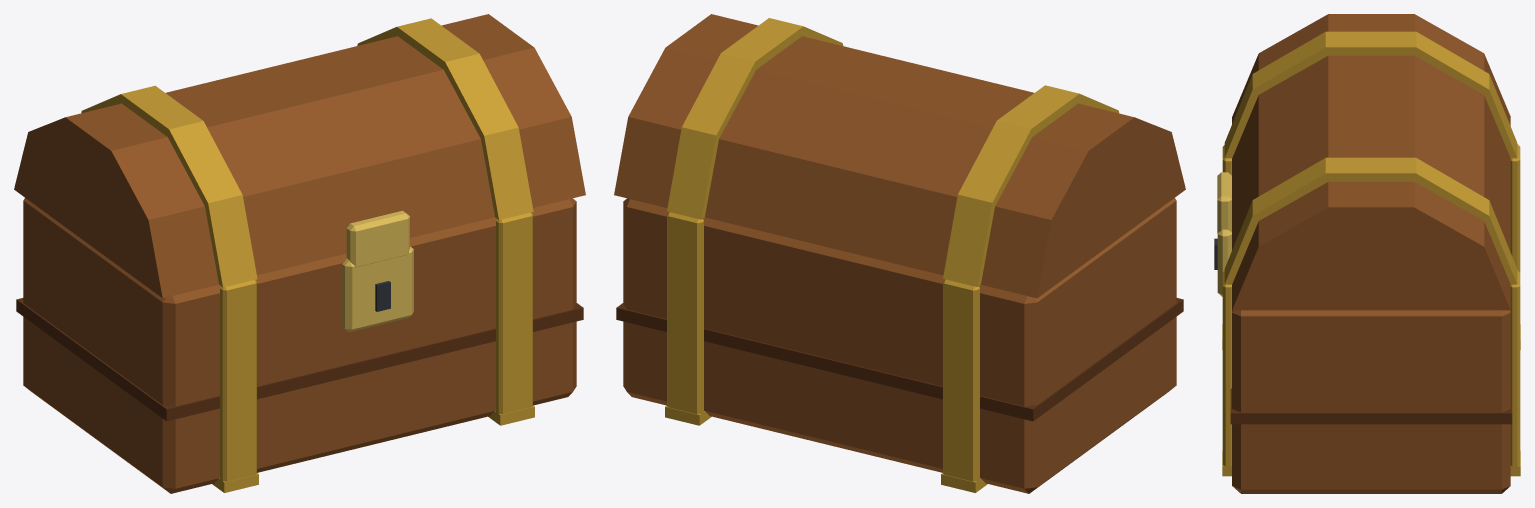
The model's file is chest.glb.
The picture shows the model from 3 angles, left to right: view 1: azimuth 30°, elevation 25°; view 2: azimuth 150°, elevation 25°; view 3: azimuth 270°, elevation 25°; orthographic projection. The views are drawn at different scales.
Parts seen in each view (by area): view 1: Chest, Lid; view 2: Chest, Lid; view 3: Lid, Chest.
Part boxes in pixels (<box>): Chest: <box>16,198,583,493</box>; Lid: <box>14,14,585,298</box>; Chest: <box>616,198,1183,493</box>; Lid: <box>614,14,1185,298</box>; Lid: <box>1217,14,1517,310</box>; Chest: <box>1214,144,1520,493</box>.
Bounding box in the file's own units: 0.92 × 0.6715 × 0.616.
